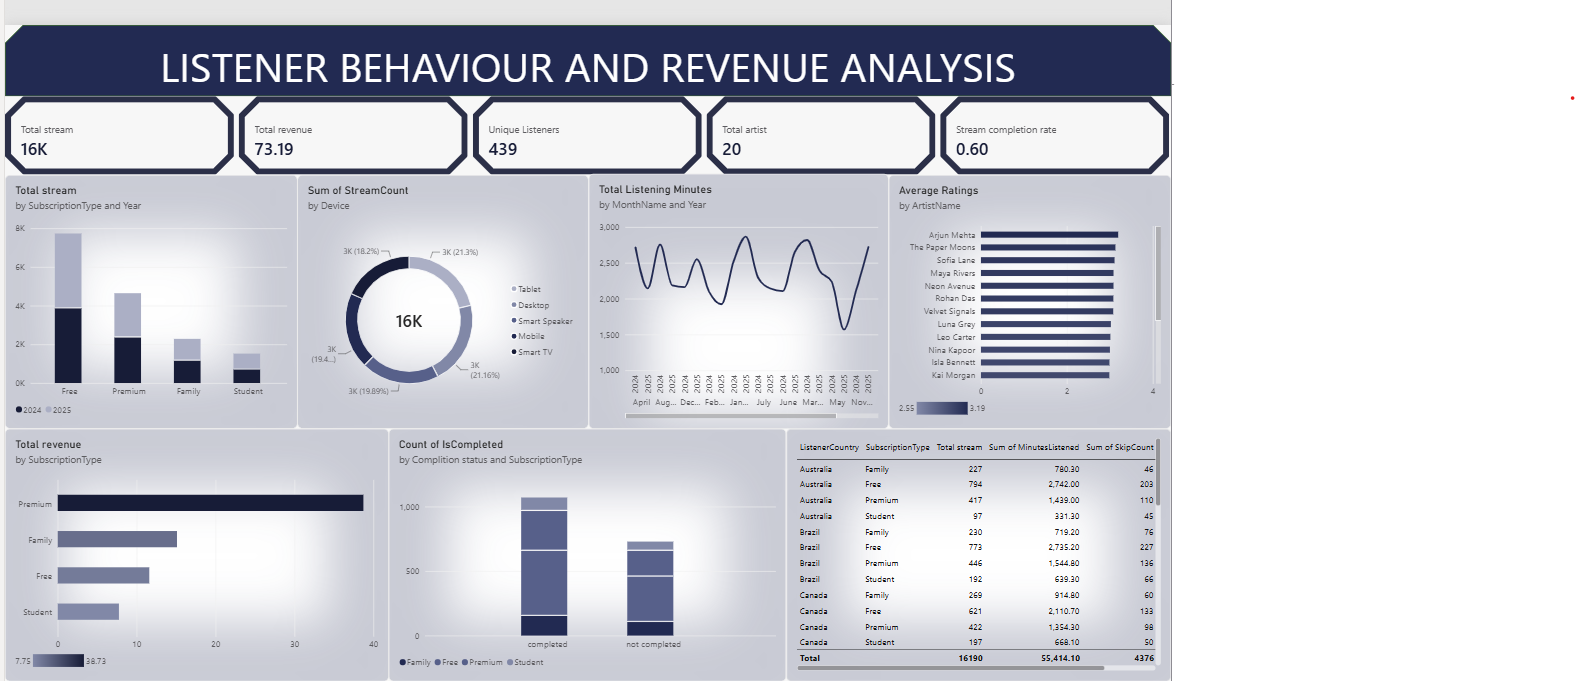

What the dashboard file says about the page in this screenshot:
{"tool":"powerbi","page":{"name":"ZEE MUSIC1","canvas":[1920,1080],"ordinal":1},"visuals":[{"type":"shape","box":[0,0,1920.4,117.3],"z":0},{"type":"cardVisual","fields":{"Data":["Music_Streams csv.Total stream","Music_Streams csv.Total revenue","Music_Streams csv.Unique Listeners","Music_Streams csv.Total artist","Music_Streams csv.Stream completion rate"]},"box":[0,117.3,1920.4,129.7],"z":1000},{"type":"columnChart","fields":{"Category":["Music_Streams csv.SubscriptionType"],"Series":["Date csv.Year"],"Y":["Music_Streams csv.Total stream"]},"box":[0,247,481.6,417.8],"z":1001},{"type":"clusteredBarChart","fields":{"Category":["Music_Streams csv.SubscriptionType"],"Y":["Music_Streams csv.Total revenue"]},"box":[0,664.8,631.9,415.8],"z":1002},{"type":"donutChart","fields":{"Category":["Music_Streams csv.Device"],"Y":["Sum(Music_Streams csv.StreamCount)"]},"box":[481.6,247,479.6,417.8],"z":1003},{"type":"lineChart","fields":{"Category":["Date csv.MonthName","Date csv.Year"],"Y":["Music_Streams csv.Total Listening Minutes"]},"box":[961.2,244.9,494,419.9],"z":1004},{"type":"clusteredBarChart","fields":{"Category":["Artist csv.ArtistName"],"Y":["Music_Streams csv.Average Ratings"]},"box":[1455.2,247,465.2,417.8],"z":1005},{"type":"columnChart","fields":{"Category":["Music_Streams csv.Complition status"],"Series":["Music_Streams csv.SubscriptionType"],"Y":["CountNonNull(Music_Streams csv.IsCompleted)"]},"box":[631.9,664.8,654.5,415.8],"z":1006},{"type":"tableEx","fields":{"Values":["Music_Streams csv.ListenerCountry","Music_Streams csv.SubscriptionType","Music_Streams csv.Total stream","Sum(Music_Streams csv.MinutesListened)","Sum(Music_Streams csv.SkipCount)","Music_Streams csv.Total revenue"]},"box":[1286.5,664.8,634,415.8],"z":1007}]}

Visuals, with their boxes on the page's 1920x1080 design canvas (x1, y1, x2, y2). These are canvas units, not pixel positions in the 1575x681 screenshot, which may show the page scaled, cropped or inside an application window:
shape: [0,0,1920,117]
cardVisual - Music_Streams csv.Total stream x Music_Streams csv.Total revenue: [0,117,1920,247]
columnChart - Music_Streams csv.SubscriptionType x Date csv.Year: [0,247,482,665]
clusteredBarChart - Music_Streams csv.SubscriptionType x Music_Streams csv.Total revenue: [0,665,632,1081]
donutChart - Music_Streams csv.Device x Sum(Music_Streams csv.StreamCount): [482,247,961,665]
lineChart - Date csv.MonthName x Date csv.Year: [961,245,1455,665]
clusteredBarChart - Artist csv.ArtistName x Music_Streams csv.Average Ratings: [1455,247,1920,665]
columnChart - Music_Streams csv.Complition status x Music_Streams csv.SubscriptionType: [632,665,1286,1081]
tableEx - Music_Streams csv.ListenerCountry x Music_Streams csv.SubscriptionType: [1286,665,1920,1081]
